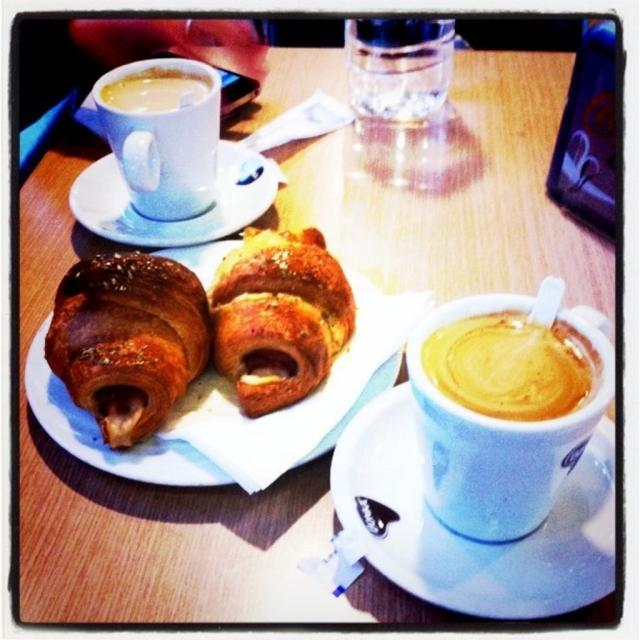Croissant: (46, 249, 216, 448), (213, 229, 356, 415)
